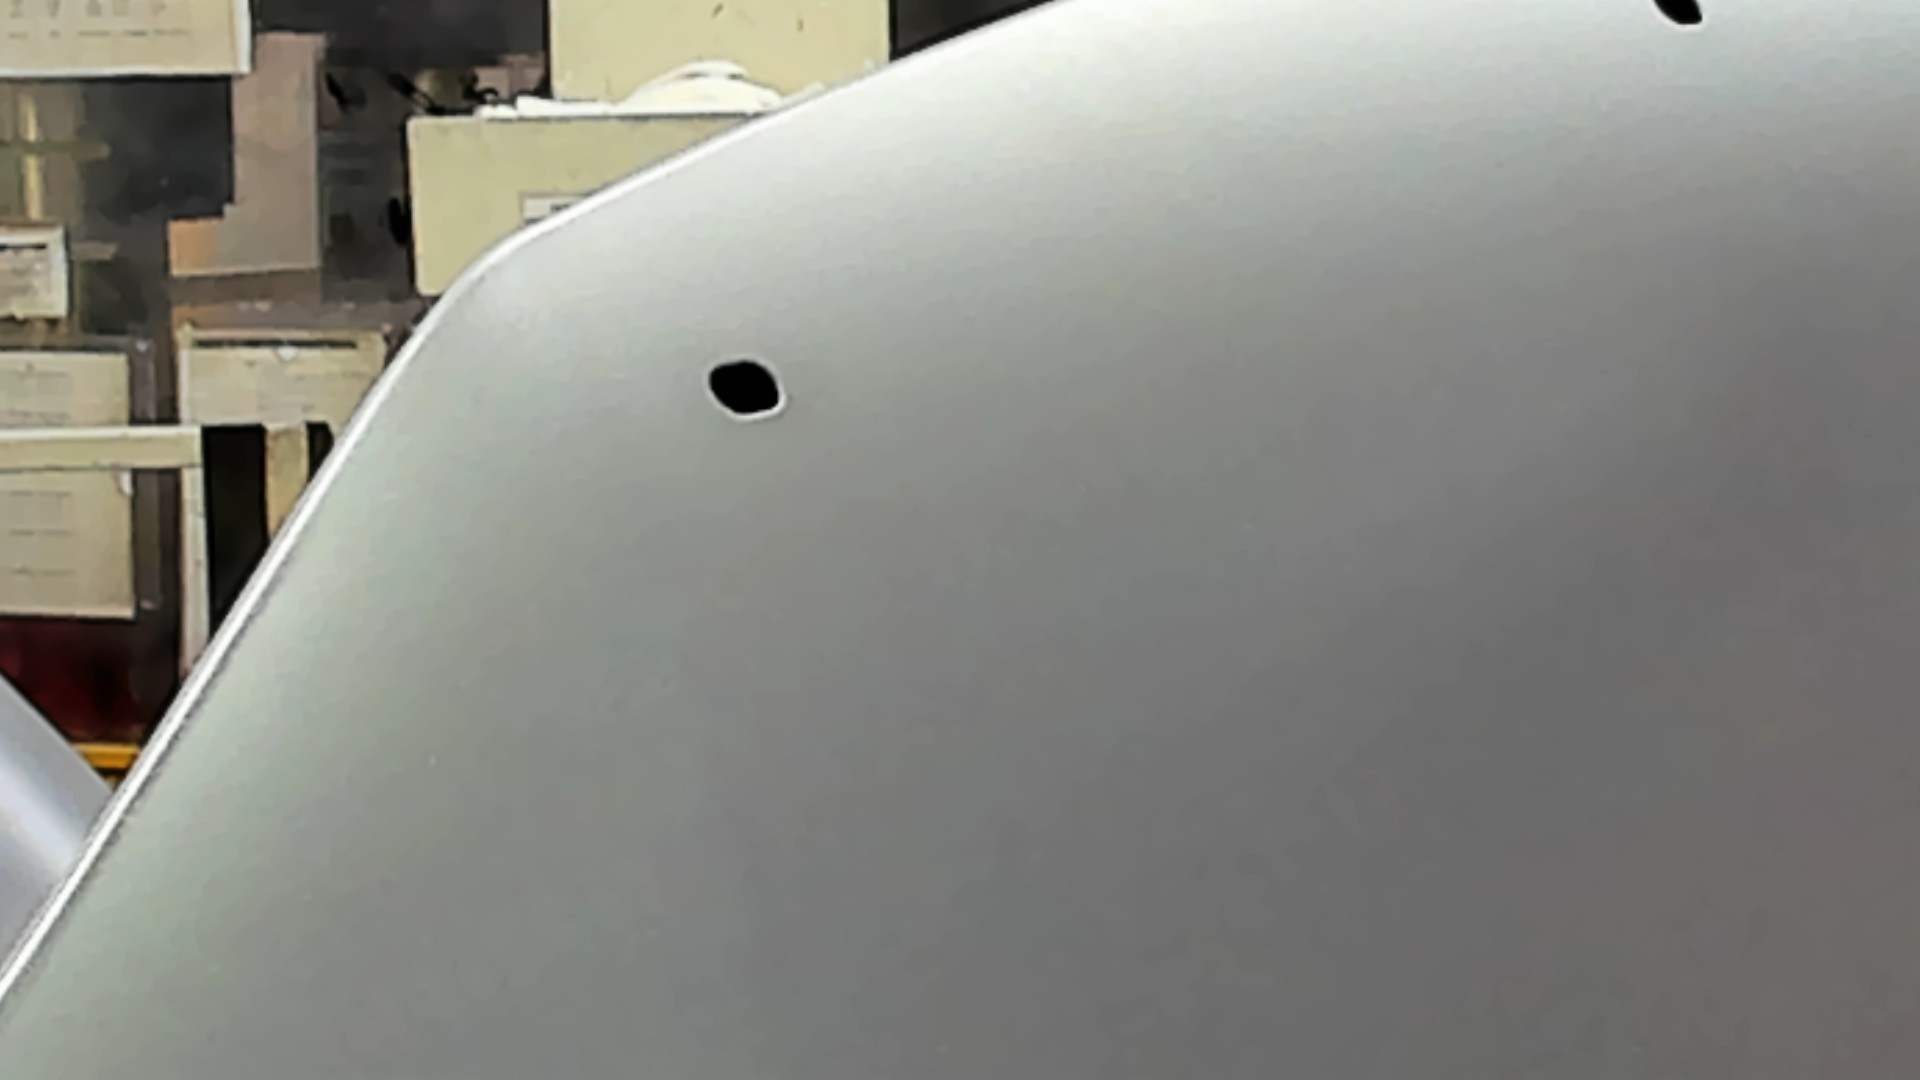amorfo: (702, 353, 791, 427), (1646, 1, 1709, 32)
